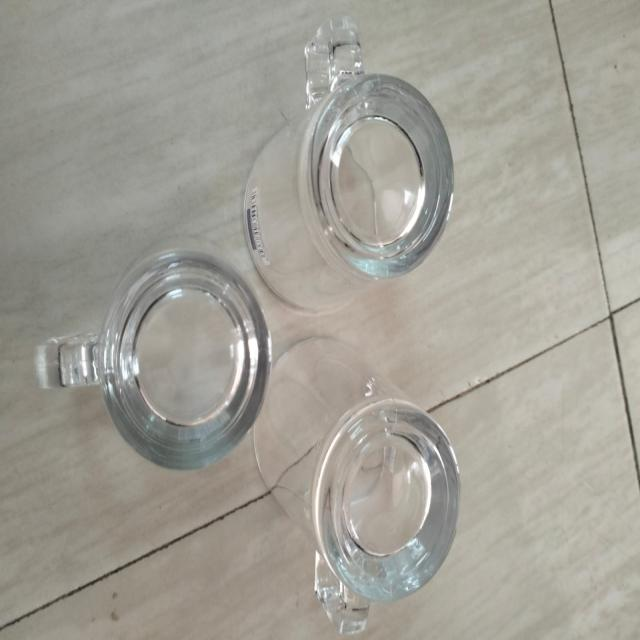glass-VX4N: (251, 333, 468, 635), (244, 18, 456, 312), (37, 237, 272, 472)
